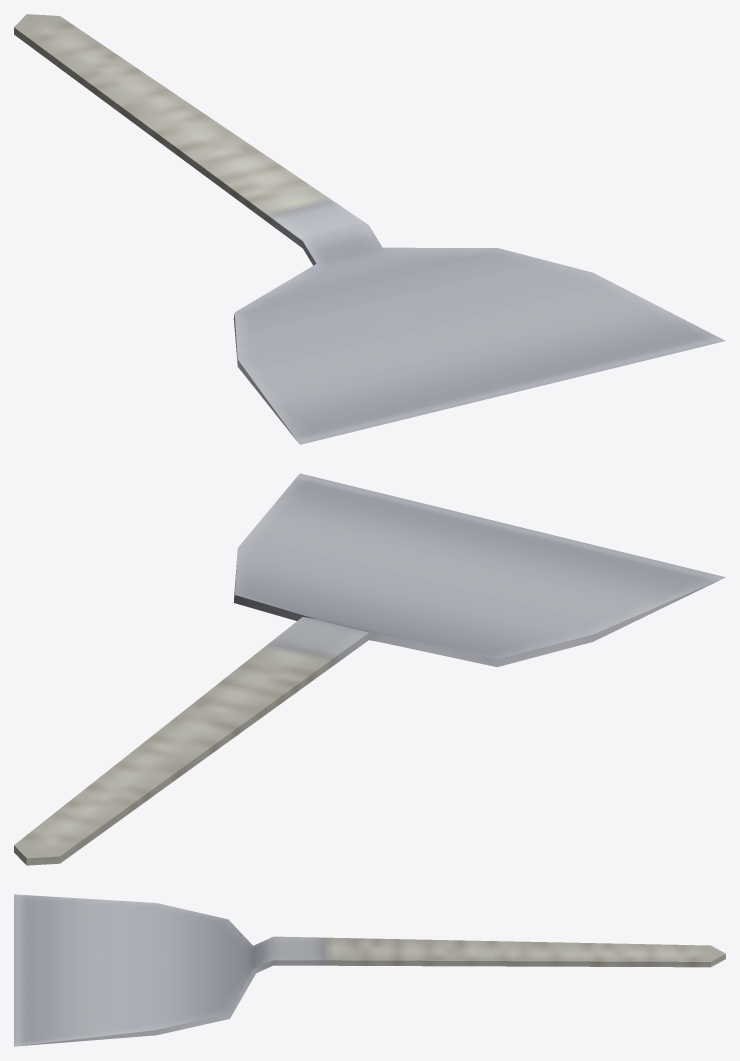
File: jsf_Spatula_04.fbx
The picture shows the model from 3 angles, top to bottom: view 1: azimuth 30°, elevation 25°; view 2: azimuth 150°, elevation 25°; view 3: azimuth 270°, elevation 25°; orthographic projection. The views are drawn at different scales.
Visible parts, largest first — view 1: jsf_Spatula_04; view 2: jsf_Spatula_04; view 3: jsf_Spatula_04.
Boxes of the visible parts, bbox=[...] form: jsf_Spatula_04: bbox=[14, 14, 725, 444]; jsf_Spatula_04: bbox=[14, 473, 725, 865]; jsf_Spatula_04: bbox=[14, 894, 725, 1046].
Bounding box in the file's own units: 12.28 × 0.8818 × 24.28.
